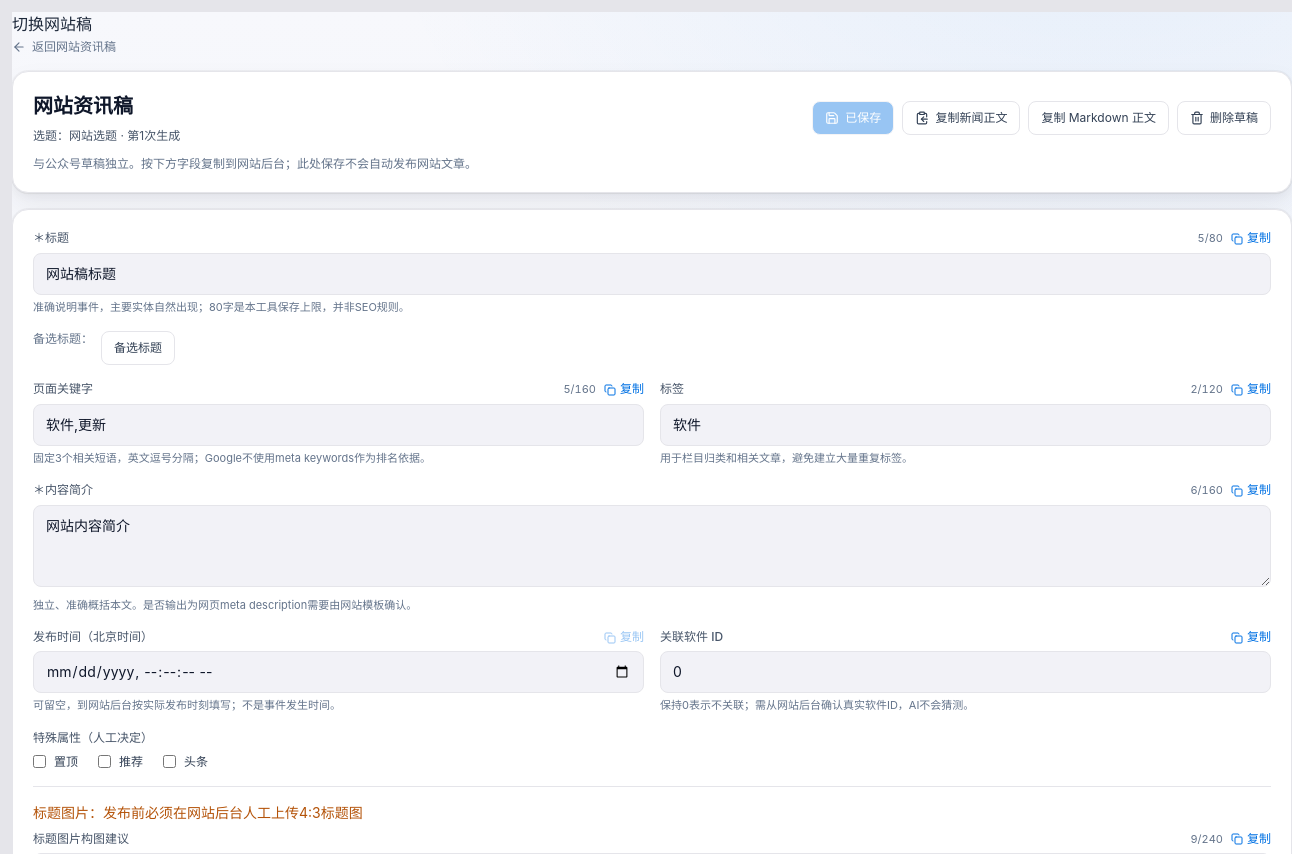
Test: website CMS fields › rejects invalid software IDs instead of silently changing them to 0
Replace the text in the field labelled "关联软件 ID" with "1.9": point(966, 672) [660, 651, 1271, 693]
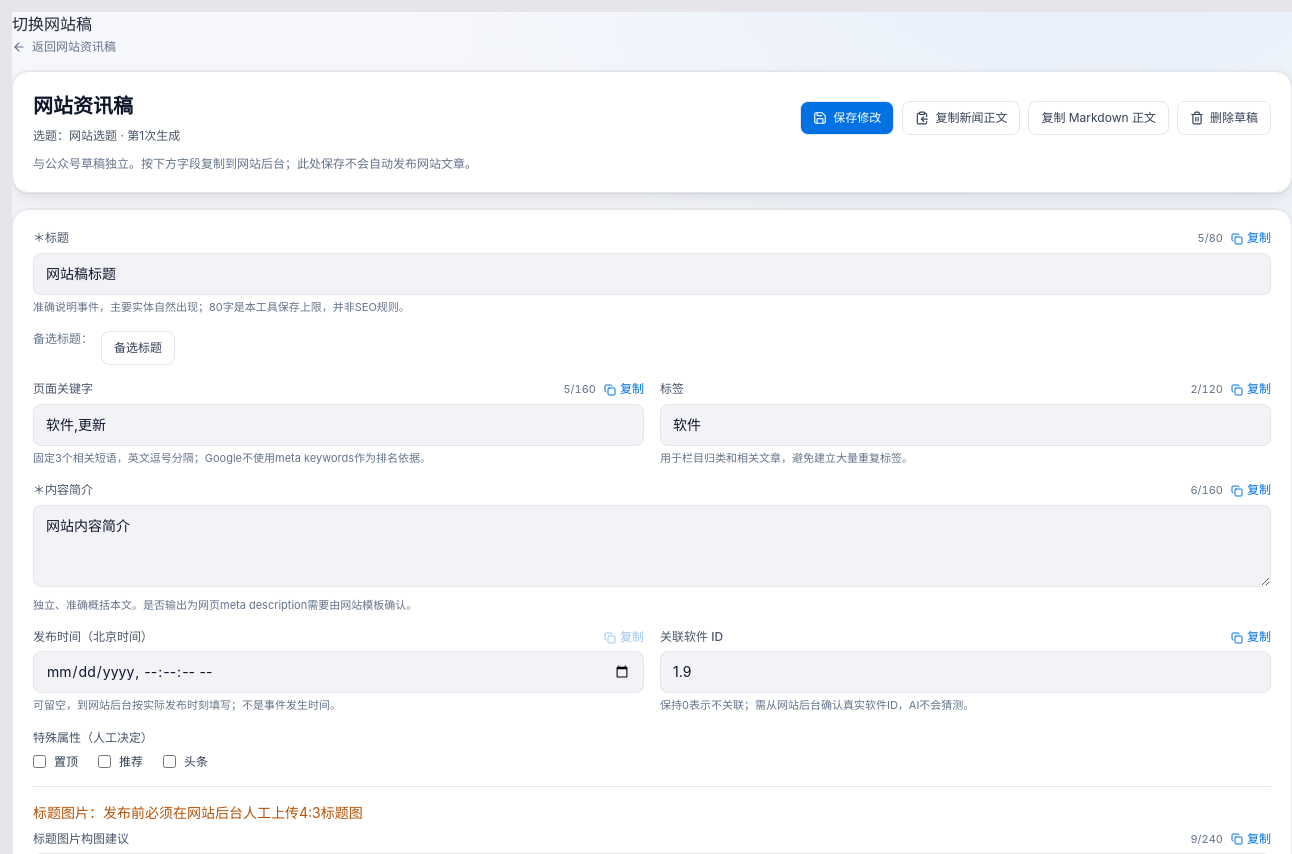
Click the button "保存修改": point(847, 118) [800, 101, 894, 135]
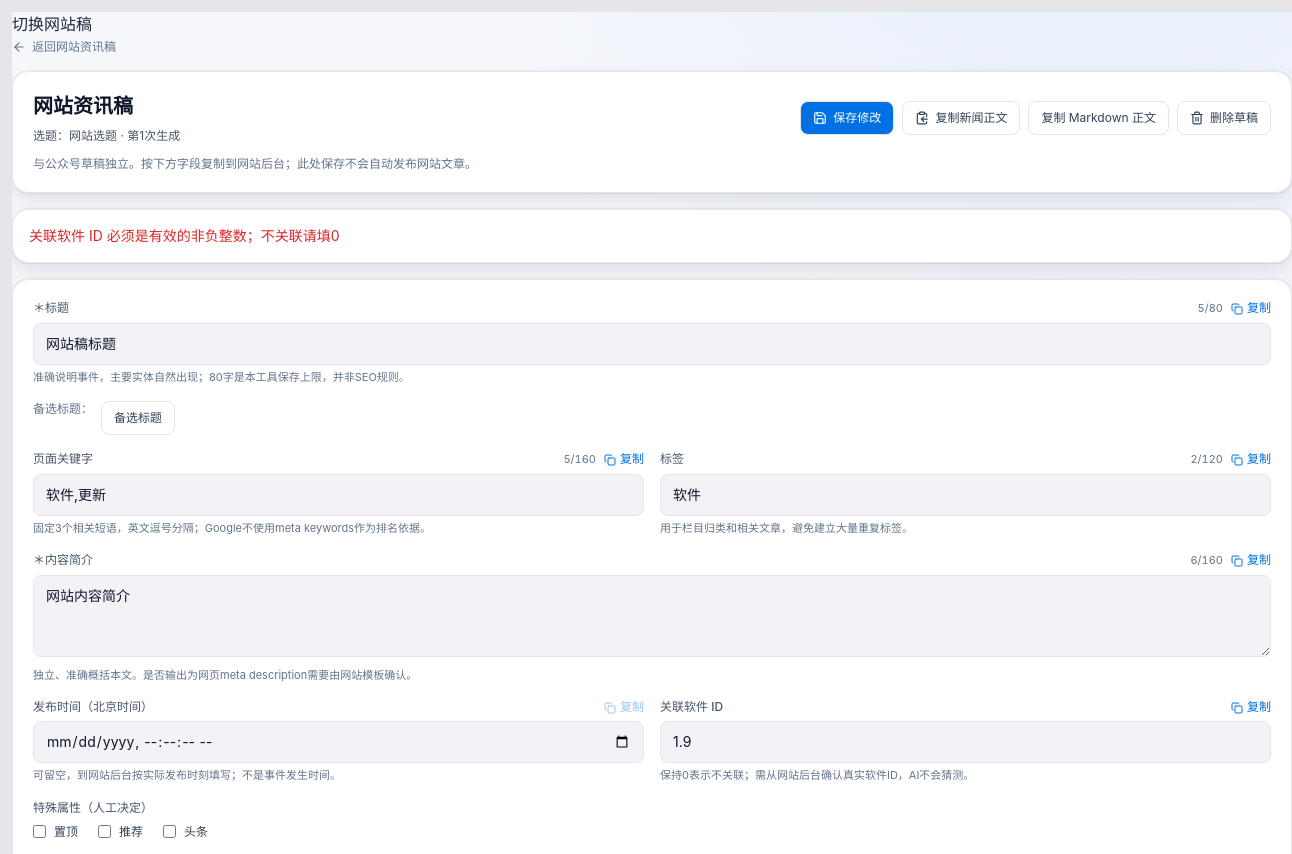
Result: the message reads "关联软件 ID 必须是有效的非负整数；不关联请填0" at [29, 227, 340, 244]
